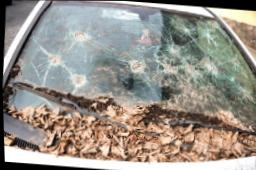Windshield: (3, 0, 256, 145)
